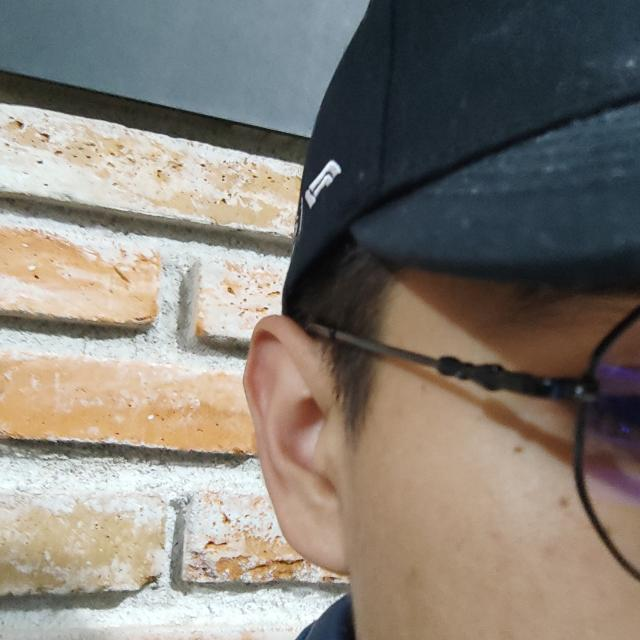ear: (244, 316, 352, 575)
